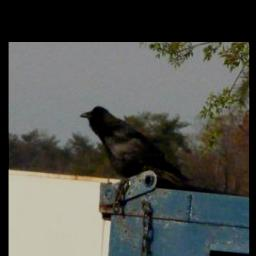Crow: (79, 104, 188, 187)
